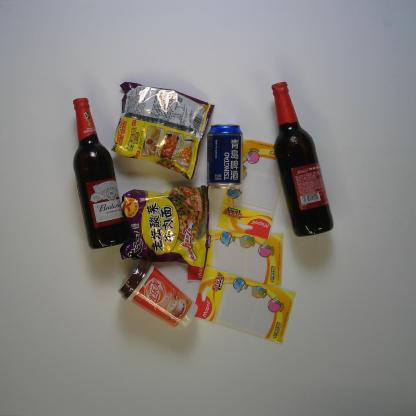Alcohol: (271, 81, 334, 239), (71, 96, 128, 250), (205, 123, 244, 190)
Instant Drink: (117, 258, 199, 334)
Instant Noodles: (110, 80, 215, 181), (118, 183, 210, 268)
Stationery: (193, 264, 297, 346), (216, 137, 282, 241), (186, 229, 284, 287)
